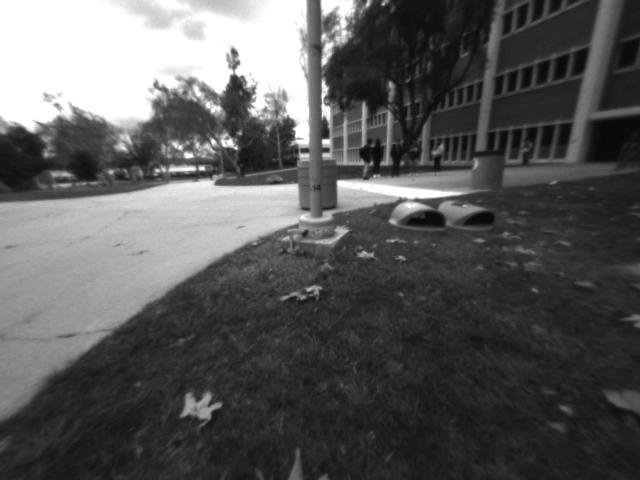trashcan: (467, 150, 506, 191)
